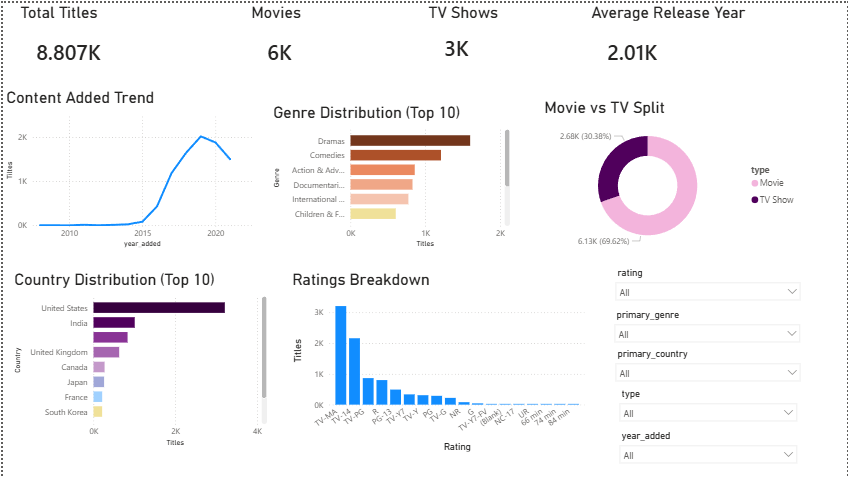

Layout of this report page (visuals, bound fields, positions):
{"tool":"powerbi","page":{"name":"Page 1","canvas":[1280,720],"ordinal":0},"visuals":[{"type":"cardVisual","title":"Total Titles","fields":{"Data":["CountNonNull(netflix_titles.title)"]},"box":[21.4,0,280,118.6],"z":0},{"type":"cardVisual","title":"Movies","fields":{"Data":["netflix_titles.Movies Count"]},"box":[371.4,0,245.7,118.6],"z":1000},{"type":"cardVisual","title":"TV Shows","fields":{"Data":["netflix_titles.TV Shows Count"]},"box":[640,0,205.7,104.3],"z":2000},{"type":"cardVisual","title":"Average Release Year","fields":{"Data":["Avg(netflix_titles.release_year)"]},"box":[885.7,0,358.6,118.6],"z":3000},{"type":"lineChart","title":"Content Added Trend","fields":{"Category":["netflix_titles.year_added"],"Y":["CountNonNull(netflix_titles.title)"]},"box":[0,128.6,384.3,247.1],"z":3001},{"type":"clusteredBarChart","title":"Genre Distribution (Top 10)","fields":{"Category":["netflix_titles.primary_gener"],"Y":["CountNonNull(netflix_titles.title)"]},"box":[404.3,151.4,368.6,224.3],"z":3002},{"type":"donutChart","title":"Movie vs TV Split","fields":{"Category":["netflix_titles.type"],"Y":["CountNonNull(netflix_titles.title)"]},"box":[815.7,144.3,397.1,238.6],"z":3003},{"type":"clusteredBarChart","title":"Country Distribution (Top 10)","fields":{"Category":["netflix_titles.primary_country"],"Y":["CountNonNull(netflix_titles.title)"]},"box":[11.4,404.3,392.9,271.4],"z":3004},{"type":"clusteredColumnChart","title":"Ratings Breakdown","fields":{"Category":["netflix_titles.rating"],"Y":["CountNonNull(netflix_titles.title)"]},"box":[432.9,404.3,452.9,280],"z":3005},{"type":"slicer","fields":{"Values":["netflix_titles.primary_genre"]},"box":[917.1,458.6,301.4,60],"z":3006},{"type":"slicer","fields":{"Values":["netflix_titles.primary_country"]},"box":[918.6,518.6,300,60],"z":3007},{"type":"slicer","fields":{"Values":["netflix_titles.type"]},"box":[924.3,578.6,288.6,64.3],"z":3008},{"type":"slicer","fields":{"Values":["netflix_titles.year_added"]},"box":[924.3,642.9,288.6,65.7],"z":3009},{"type":"slicer","fields":{"Values":["netflix_titles.rating"]},"box":[918.6,395.7,300,62.9],"z":3010}]}

Visuals, with their boxes in screenshot pixels (x1, y1, x2, y2), scaled from the page's 1280x720 canvas onto the 848x478 screenshot:
"Total Titles" cardVisual: left=14, top=0, right=200, bottom=79
"Movies" cardVisual: left=246, top=0, right=409, bottom=79
"TV Shows" cardVisual: left=424, top=0, right=560, bottom=69
"Average Release Year" cardVisual: left=587, top=0, right=824, bottom=79
"Content Added Trend" lineChart: left=0, top=85, right=255, bottom=249
"Genre Distribution (Top 10)" clusteredBarChart: left=268, top=101, right=512, bottom=249
"Movie vs TV Split" donutChart: left=540, top=96, right=803, bottom=254
"Country Distribution (Top 10)" clusteredBarChart: left=8, top=268, right=268, bottom=449
"Ratings Breakdown" clusteredColumnChart: left=287, top=268, right=587, bottom=454
slicer - netflix_titles.primary_genre: left=608, top=304, right=807, bottom=344
slicer - netflix_titles.primary_country: left=609, top=344, right=807, bottom=384
slicer - netflix_titles.type: left=612, top=384, right=804, bottom=427
slicer - netflix_titles.year_added: left=612, top=427, right=804, bottom=470
slicer - netflix_titles.rating: left=609, top=263, right=807, bottom=304
